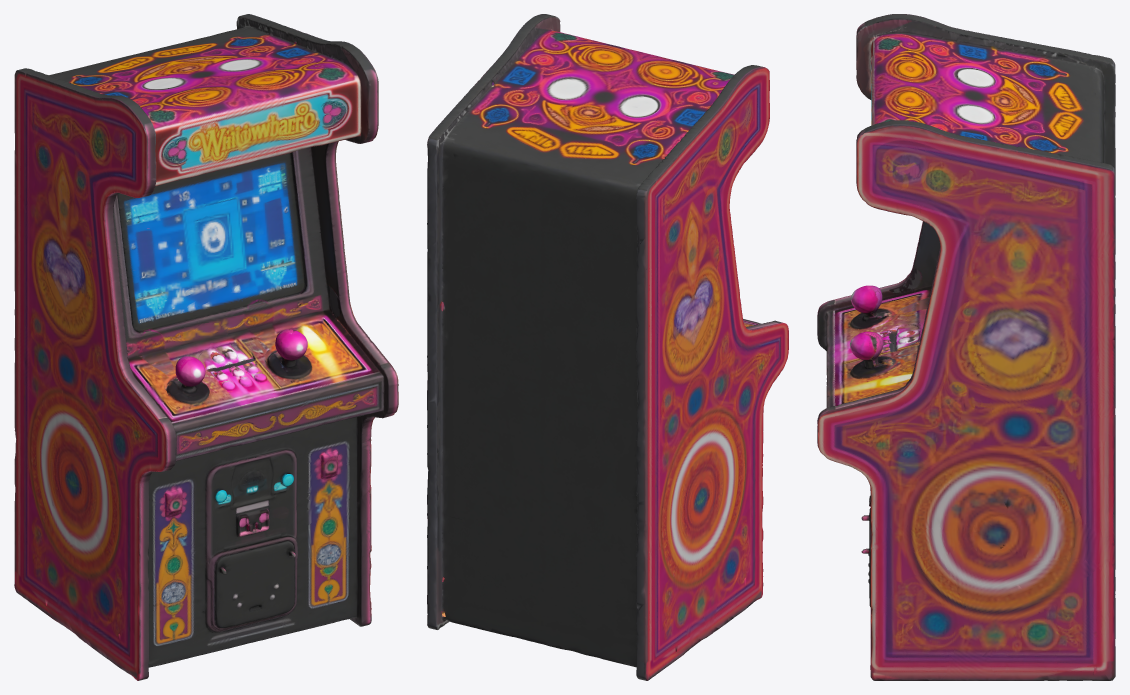
3 views of the same model, side by side, from view 1: azimuth 30°, elevation 25°; view 2: azimuth 150°, elevation 25°; view 3: azimuth 270°, elevation 25° (orthographic). The views are drawn at different scales.
Size of the model in its own units: 0.8181 by 1.9 by 0.9251.
1 material, 1 textured.
